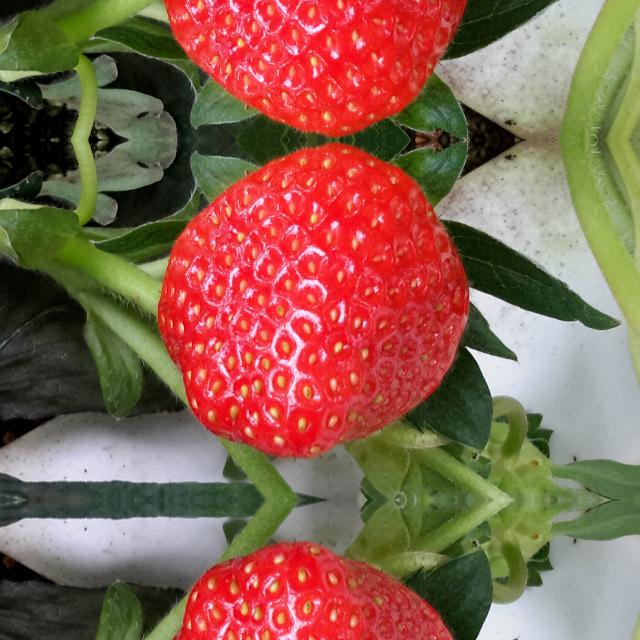Health_100: (156, 140, 470, 462), (156, 0, 469, 139), (156, 538, 469, 640)
